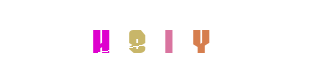8: (120, 0, 200, 80)
H: (60, 0, 140, 80)
I: (127, 0, 207, 80)
Y: (128, 0, 208, 80)
